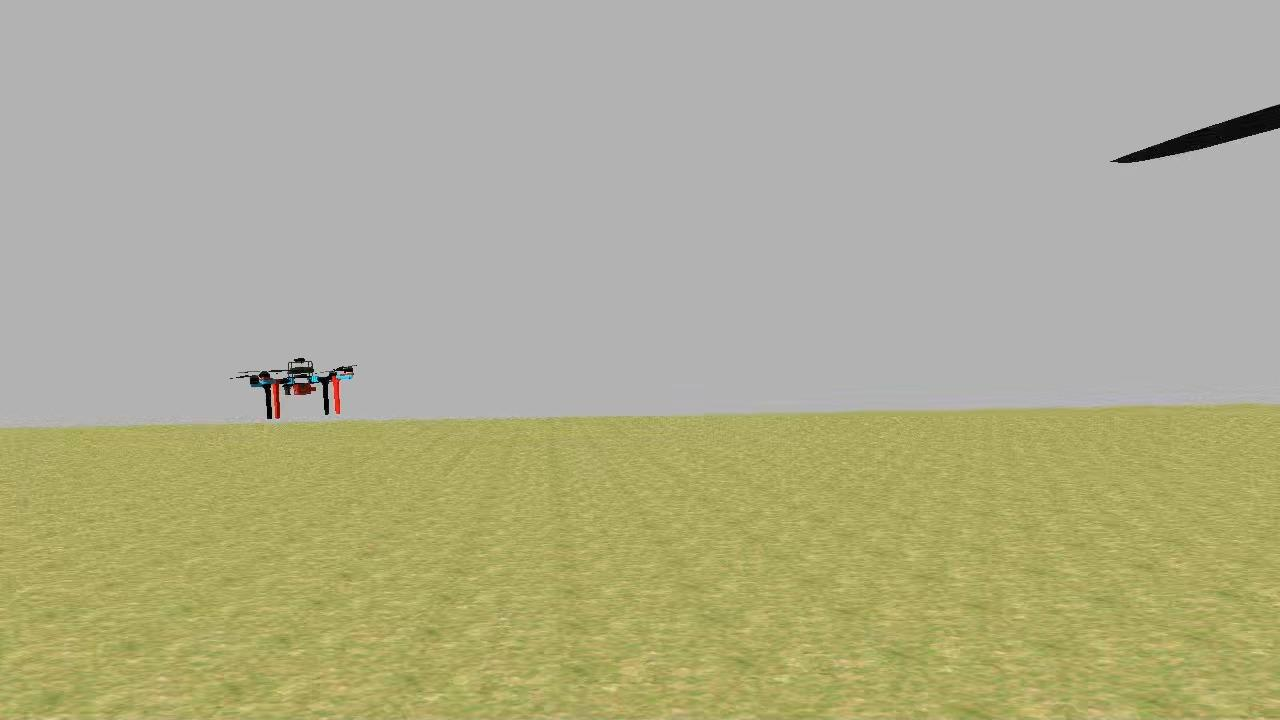UAV: (240, 352, 360, 426)
